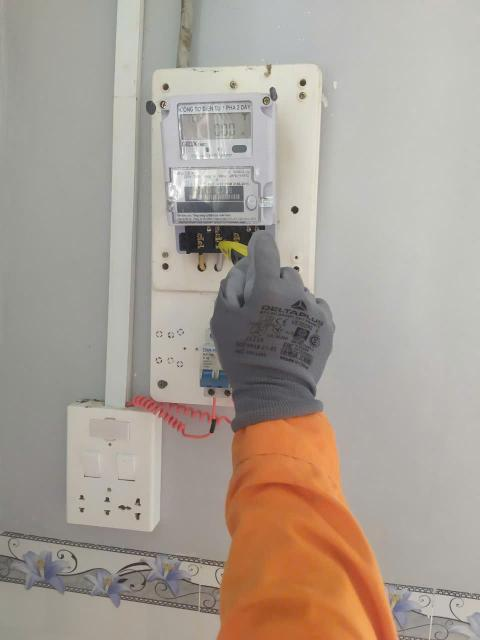gloves: (209, 218, 341, 438)
